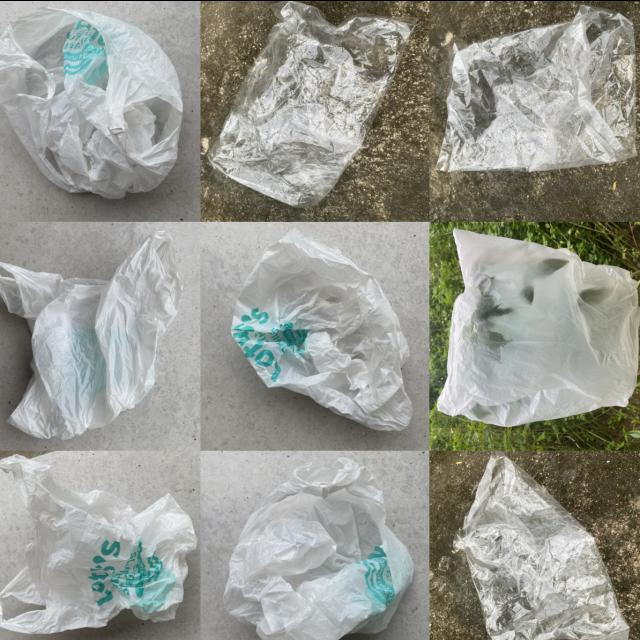plastik: (209, 0, 414, 207), (437, 228, 640, 425), (0, 231, 181, 439), (232, 228, 411, 429), (0, 455, 196, 633), (224, 457, 412, 640), (0, 8, 182, 197), (454, 452, 629, 640), (437, 5, 636, 170)
